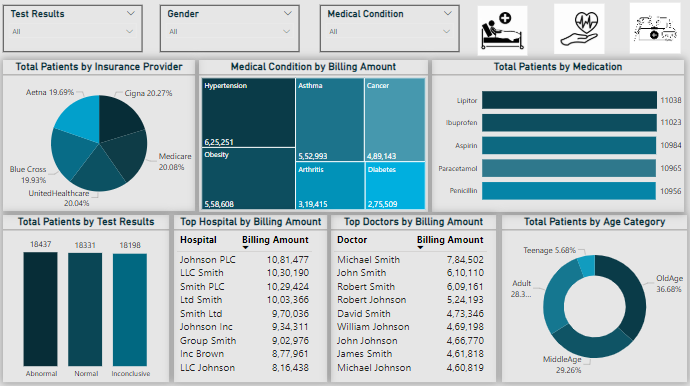

This screenshot's page, from the dashboard's own definition file:
{"tool":"powerbi","page":{"name":"Page 2","canvas":[1280,720],"ordinal":1},"visuals":[{"type":"slicer","title":"Patients by Gender","fields":{"Values":["DimTestResults.Test_Results"]},"box":[467,189.8,258.7,87.3],"z":0},{"type":"donutChart","title":"Total Patients by Age Category","fields":{"Category":["DimAgeCategory.AgeCategory"],"Y":["CountNonNull(FactHealthcareData.PatientID)"]},"box":[933.3,401.7,343.3,310],"z":1000},{"type":"pieChart","title":"Total Patients by Insurance Provider","fields":{"Y":["CountNonNull(FactHealthcareData.PatientID)"],"Category":["DimInsuranceProvider.Insurance_Provider"]},"box":[10,115,356,280],"z":2000},{"type":"clusteredBarChart","title":"Total Patients by Medication","fields":{"Category":["DimMedication.Medication"],"Y":["CountNonNull(FactHealthcareData.PatientID)"]},"box":[804.6,114.2,467,280.5],"z":3000},{"type":"clusteredColumnChart","title":"Total Patients by Test Results","fields":{"Y":["CountNonNull(FactHealthcareData.PatientID)"],"Category":["DimTestResults.Test_Results"]},"box":[10,402.2,307.8,310],"z":4000},{"type":"tableEx","title":"Top Doctors by Billing Amount","fields":{"Values":["FactHealthcareData.Doctor","Sum(FactHealthcareData.Billing_Amount)"]},"box":[617.1,402.1,305.7,310],"z":5000},{"type":"treemap","title":"Medical Condition by Billing Amount","fields":{"Values":["Sum(FactHealthcareData.Billing_Amount)"],"Group":["dimMedicalCondition.Medical_Condition"]},"box":[373,114,424,281],"z":6000},{"type":"tableEx","title":"Top Hospital by Billing Amount","fields":{"Values":["FactHealthcareData.Hospital","Sum(FactHealthcareData.Billing_Amount)"]},"box":[325.6,402.2,284.4,310],"z":7000},{"type":"image","box":[1023.3,5,105,103.3],"z":8000},{"type":"image","box":[1162.9,2.9,108.6,104.3],"z":9000},{"type":"image","box":[883.3,5,101.7,110],"z":10000},{"type":"slicer","title":"Patients by Gender","fields":{"Values":["dimMedicalCondition.Medical_Condition"]},"box":[10.1,5,265.4,92.4],"z":11000},{"type":"slicer","title":"Patients by Gender","fields":{"Values":["FactHealthcareData.Gender"]},"box":[305.7,5,265.4,92.4],"z":12000},{"type":"slicer","title":"Patients by Gender","fields":{"Values":["DimTestResults.Test_Results"]},"box":[596.3,5,265.4,92.4],"z":13000}]}

Visuals, with their boxes in screenshot pixels (x1, y1, x2, y2), scaled from the page's 1280x720 canvas onto the 690x386 screenshot:
"Patients by Gender" slicer: 252,102,391,149
"Total Patients by Age Category" donutChart: 503,215,688,382
"Total Patients by Insurance Provider" pieChart: 5,62,197,212
"Total Patients by Medication" clusteredBarChart: 434,61,685,212
"Total Patients by Test Results" clusteredColumnChart: 5,216,171,382
"Top Doctors by Billing Amount" tableEx: 333,216,497,382
"Medical Condition by Billing Amount" treemap: 201,61,430,212
"Top Hospital by Billing Amount" tableEx: 176,216,329,382
image: 552,3,608,58
image: 627,2,685,57
image: 476,3,531,62
"Patients by Gender" slicer: 5,3,149,52
"Patients by Gender" slicer: 165,3,308,52
"Patients by Gender" slicer: 321,3,465,52
